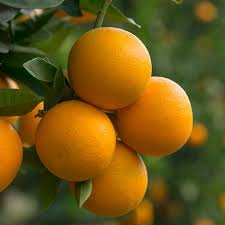orange: (68, 24, 154, 108), (35, 100, 117, 182), (119, 75, 197, 160), (68, 145, 152, 216)
